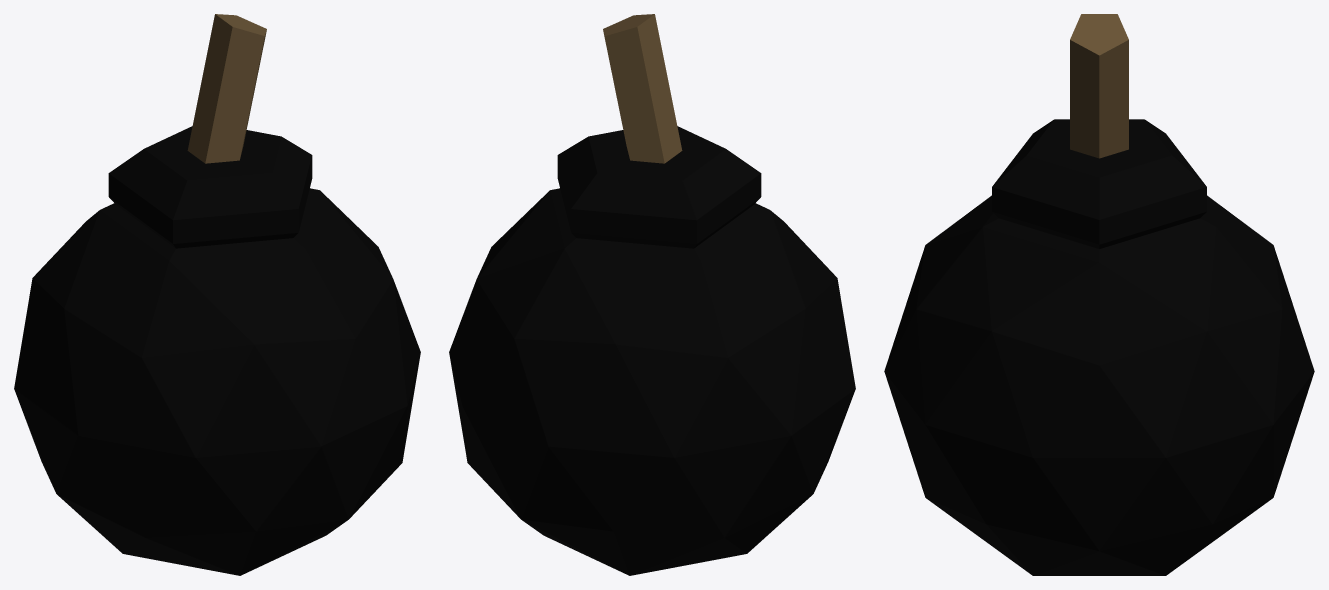
File: bomb.fbx
3 renders of one model, left to right at view 1: azimuth 30°, elevation 25°; view 2: azimuth 150°, elevation 25°; view 3: azimuth 270°, elevation 25°, orthographic. The views are drawn at different scales.
Parts seen in each view (by area): view 1: bomb; view 2: bomb; view 3: bomb.
Boxes of the visible parts, box(x1,y1,x2,y2) form: bomb: box(14, 14, 420, 575); bomb: box(449, 14, 855, 575); bomb: box(884, 14, 1314, 575).
Bounding box in the file's own units: 40.67 × 60.92 × 42.77.
